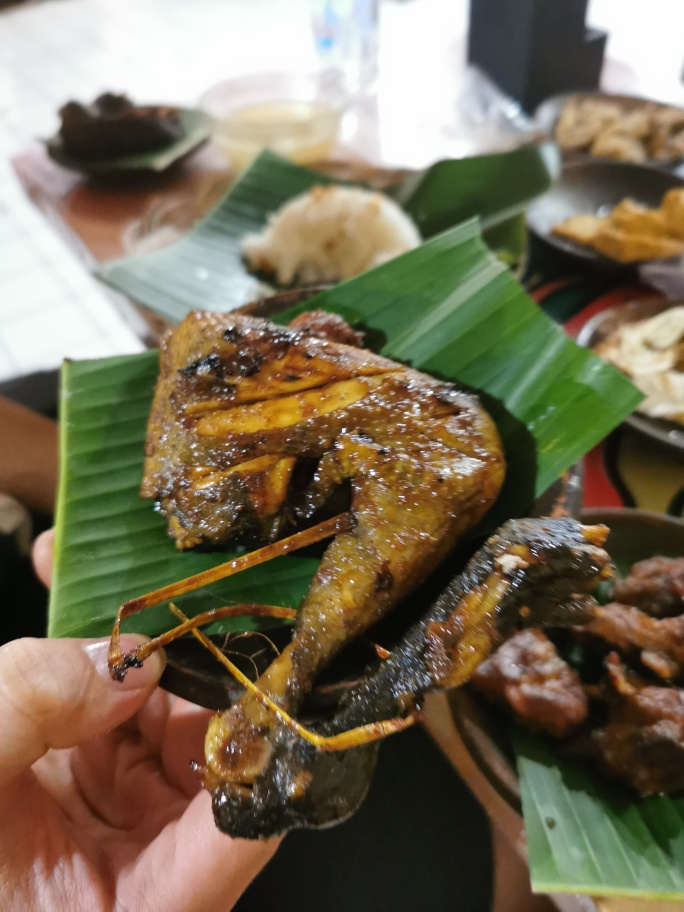ayam bakar: (151, 307, 617, 823)
